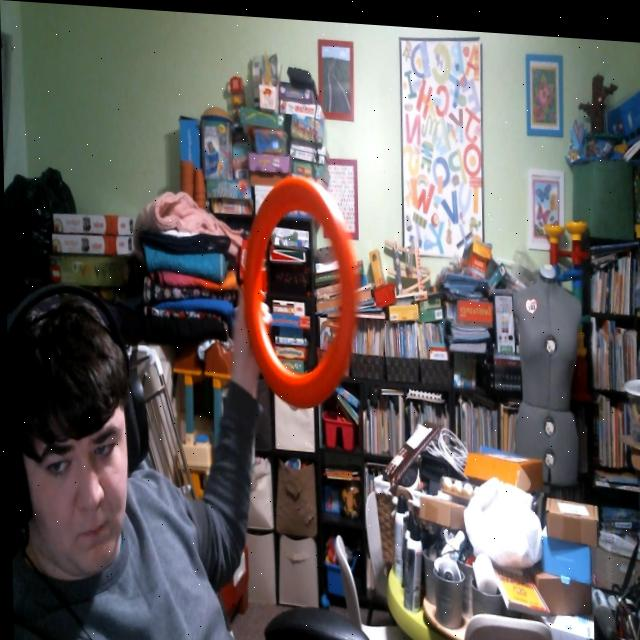note: (240, 165, 359, 406)
